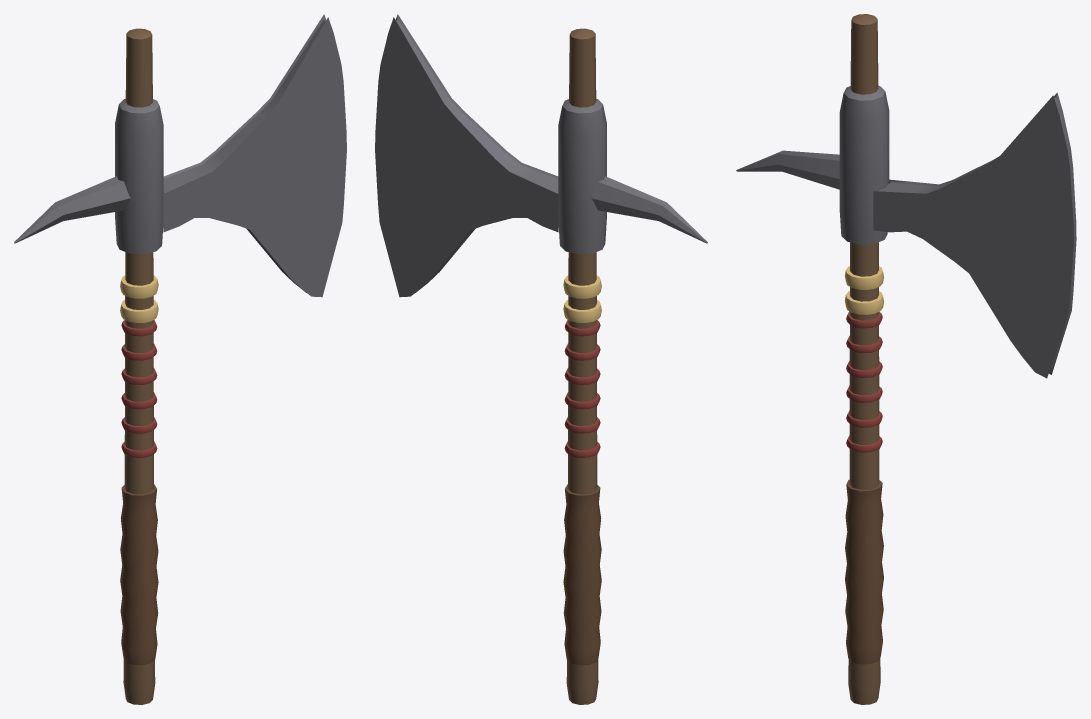
The model's file is bearded_axe.glb.
The picture shows the model from 3 angles, left to right: view 1: azimuth 30°, elevation 25°; view 2: azimuth 150°, elevation 25°; view 3: azimuth 330°, elevation 25°; orthographic projection. The views are drawn at different scales.
Parts seen in each view (by area): view 1: bearded_axe; view 2: bearded_axe; view 3: bearded_axe.
Part boxes in pixels (bbox=[...]): bearded_axe: bbox=[14, 14, 346, 704]; bearded_axe: bbox=[375, 14, 707, 704]; bearded_axe: bbox=[736, 14, 1076, 704].
Bounding box in the file's own units: 0.4273 × 0.825 × 0.0517.
